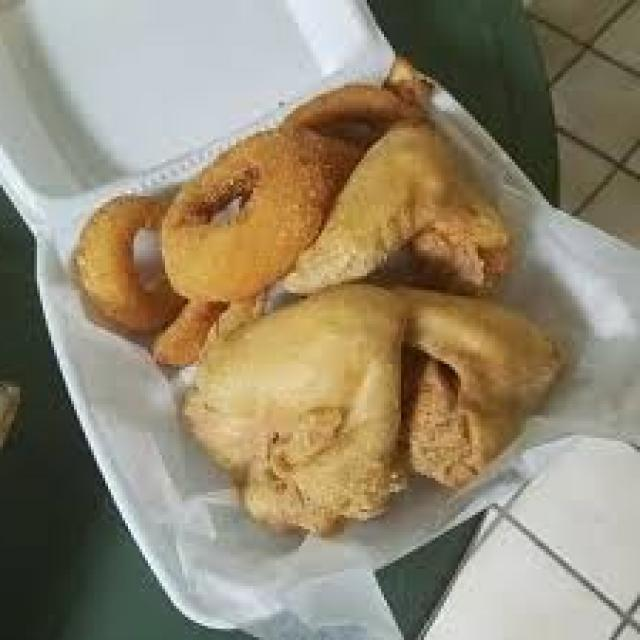Chicken Wings: (205, 117, 549, 529)
Onion Rings: (68, 48, 427, 350)
